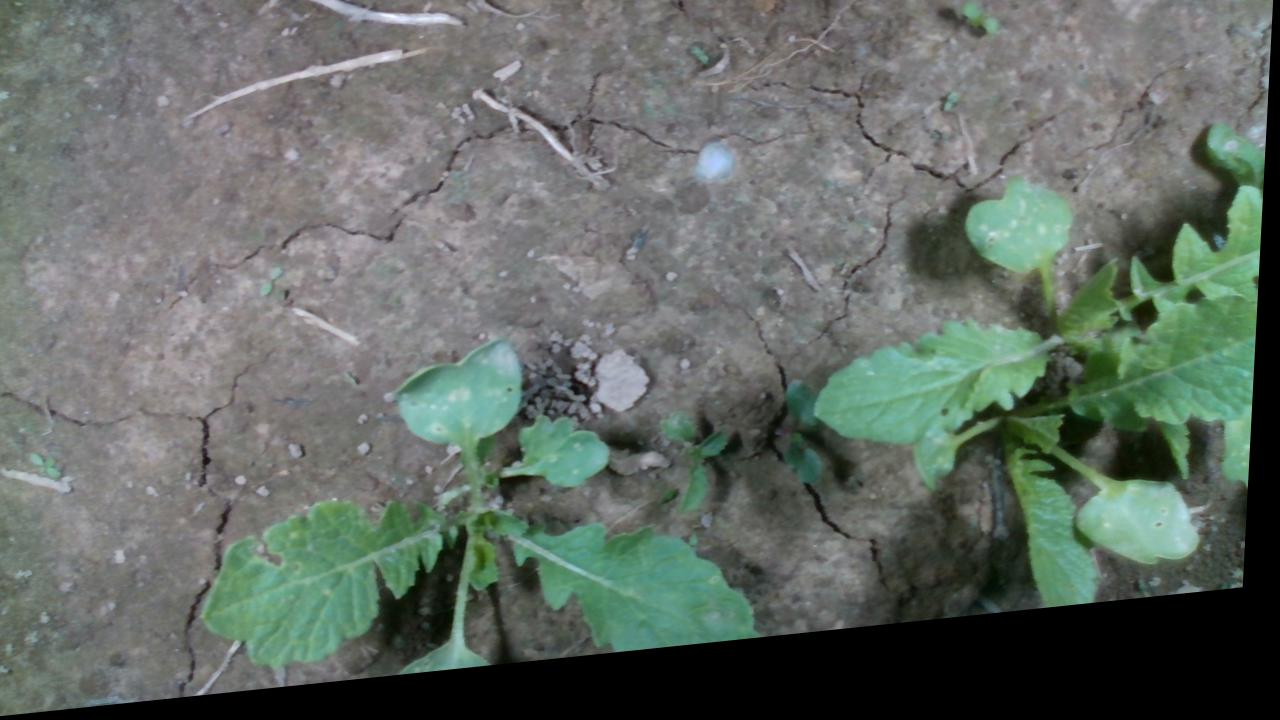weed: (959, 14, 1000, 61)
